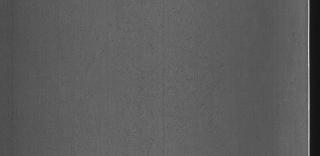silk spot: (126, 28, 224, 130)
